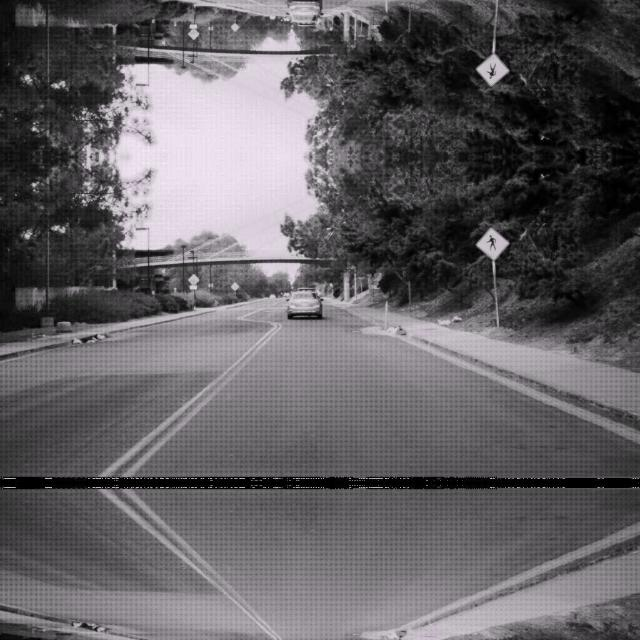pedestrianCrossing: (476, 225, 508, 259), (476, 53, 508, 87)
